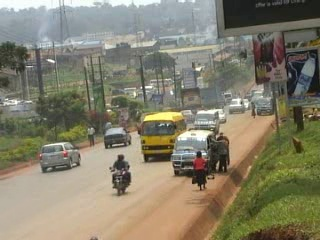Car: (35, 138, 84, 173), (101, 127, 134, 149), (175, 105, 195, 122), (213, 105, 229, 126), (240, 97, 251, 113)
Motorcycle: (108, 152, 133, 197)
